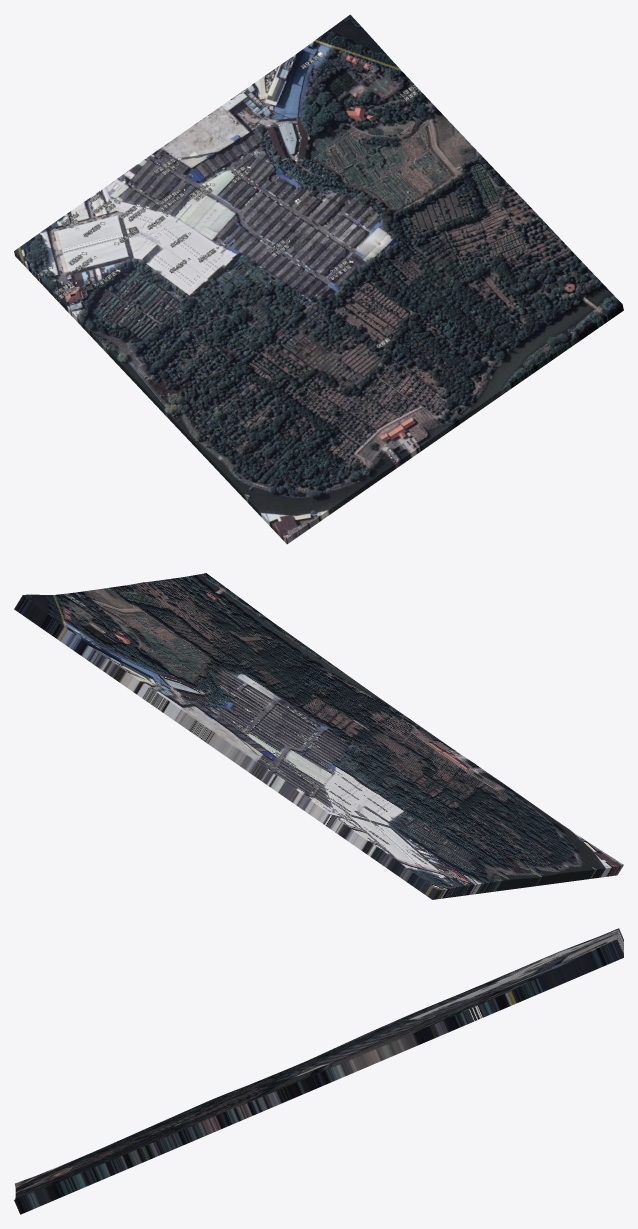
3 renders of one model, top to bottom at view 1: azimuth 30°, elevation 25°; view 2: azimuth 150°, elevation 25°; view 3: azimuth 270°, elevation 25°, orthographic. The views are drawn at different scales.
Visible parts, largest first — view 1: 0_19_19; view 2: 0_19_19; view 3: 0_19_19.
Part boxes in pixels (x1=…): 0_19_19: x1=14, y1=14, x2=623, y2=544; 0_19_19: x1=14, y1=573, x2=623, y2=899; 0_19_19: x1=14, y1=928, x2=623, y2=1214.
Bounding box in the file's own units: 596 × 443 × 548.
Materials: 1 (1 with a texture image).
